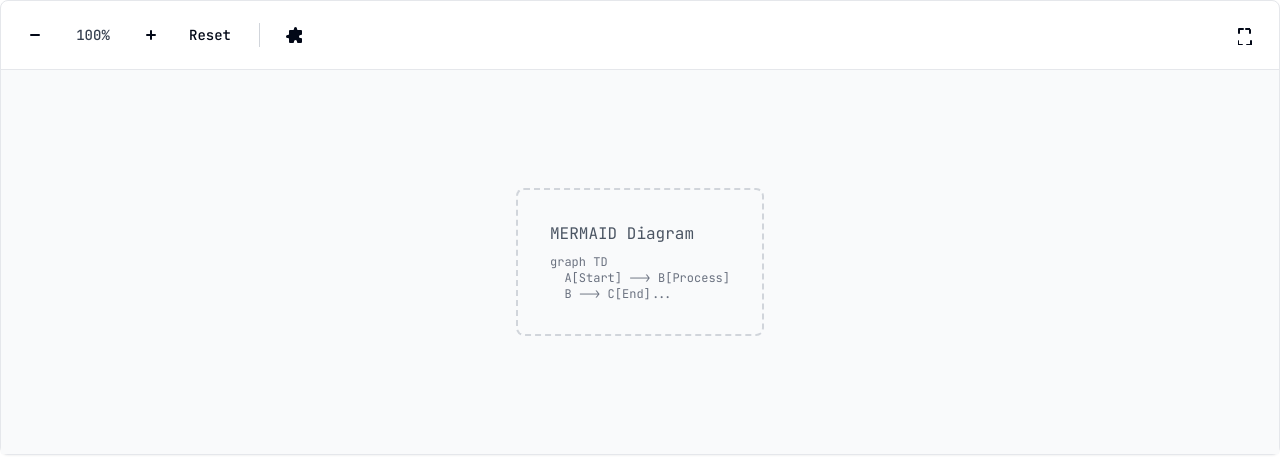
DiagramViewer › Zoom Controls › decreases zoom when zoom out is clicked
The width and height of the screenshot is (1280, 472).
Click the button named "zoom out": (35, 35) [17,17,53,53]
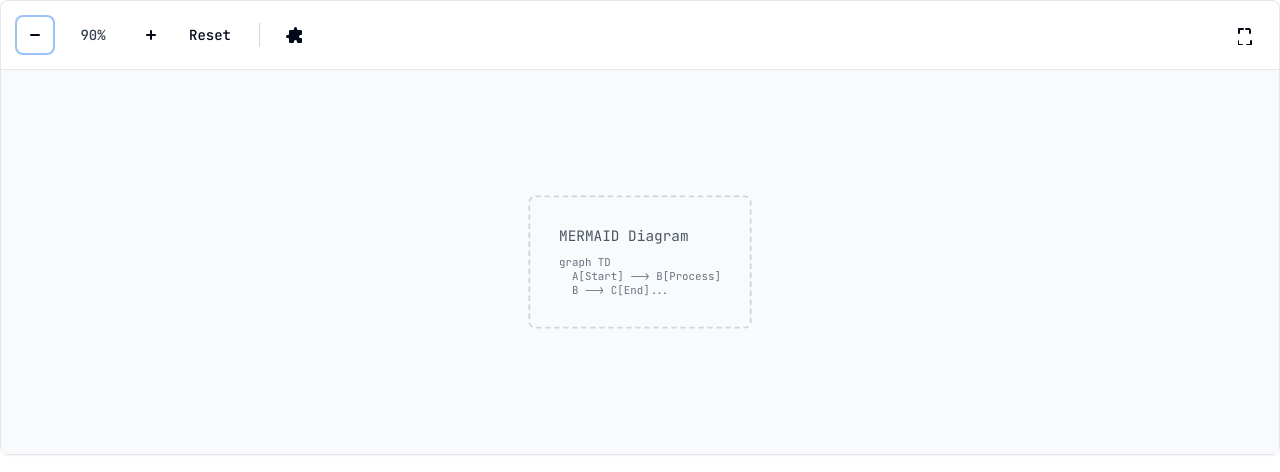
Now the element named "diagram controls" shows "90%", box [1,1,1279,70]
